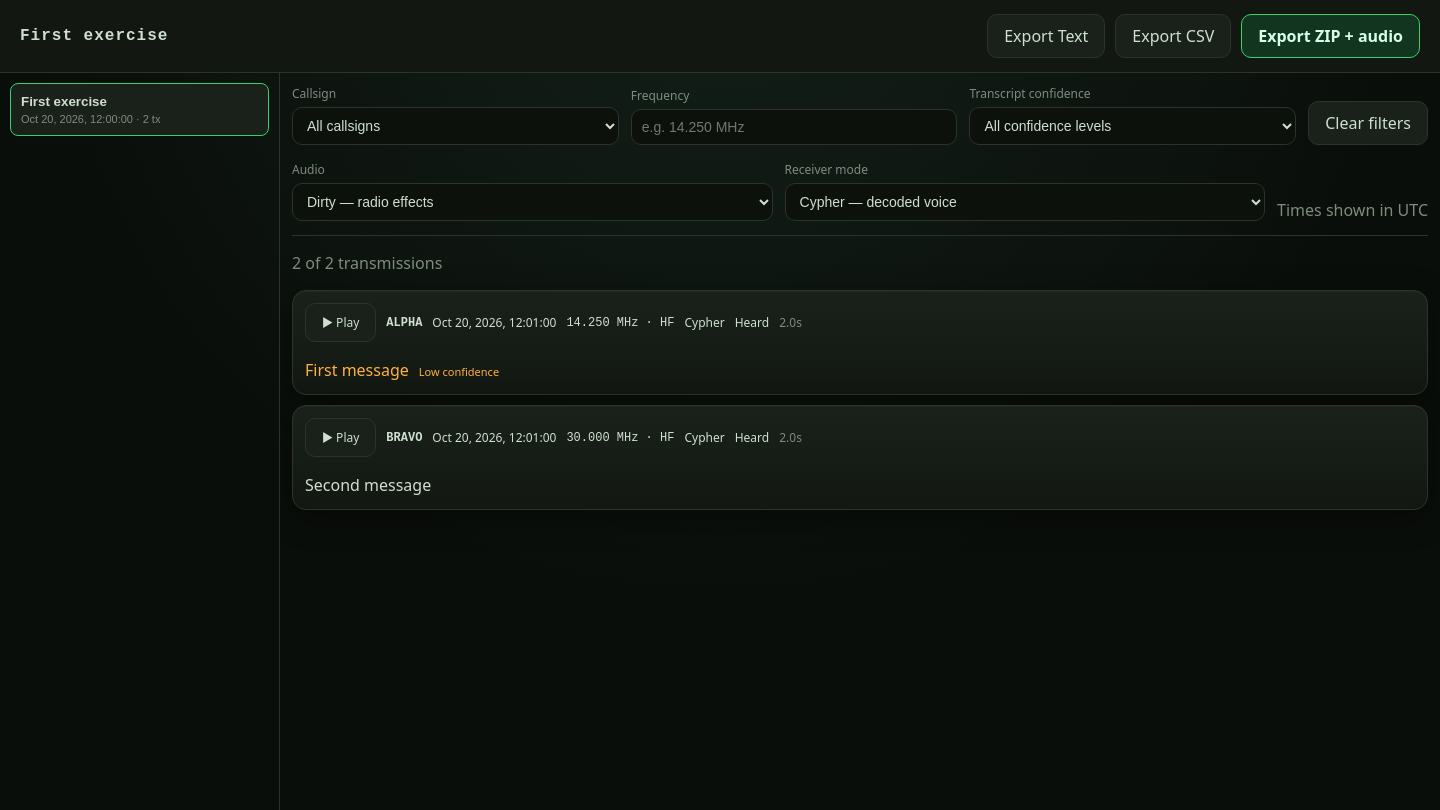
AarReview › combines callsign, frequency and confidence filters, and clears them
The image size is (1440, 810).
Expected: the text "First message" is shown, [305,359,409,381]
Select "ALPHA" in the dropdown named "Filter by callsign": (455, 126) [292,107,619,145]
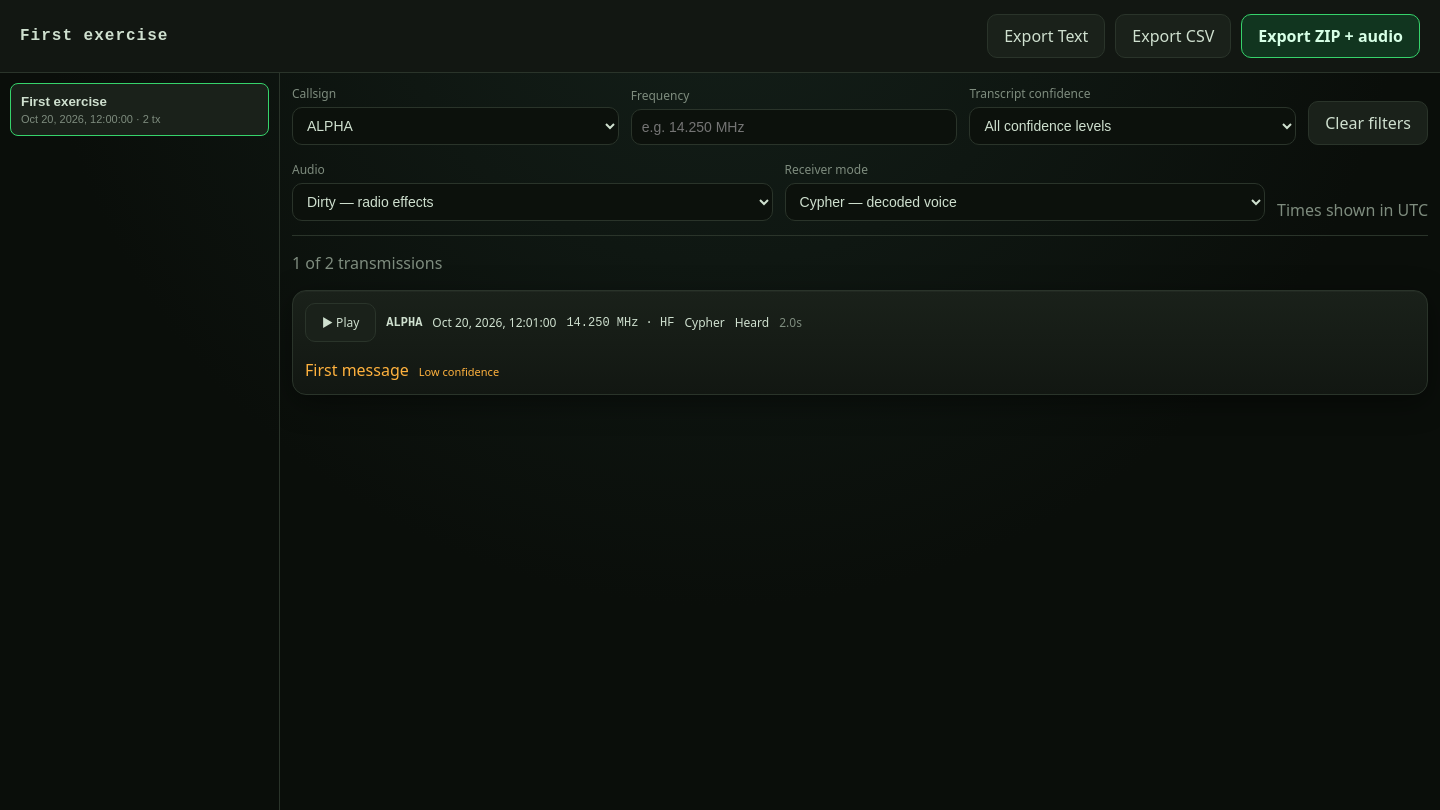
Result: the text "Second message" is gone
In the field named "Filter by frequency": (794, 127) [631,109,957,145], type "30.000"
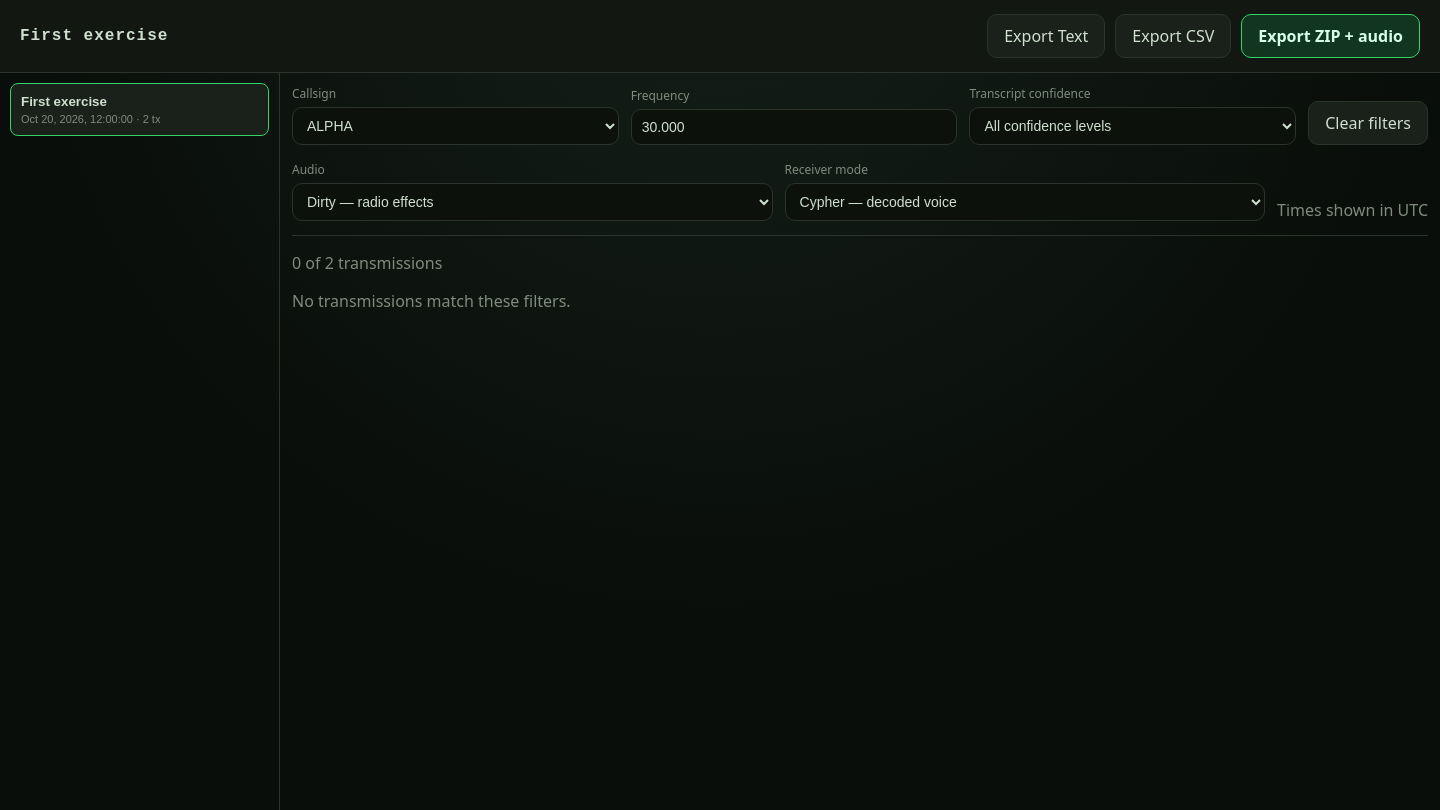
Result: the text "No transmissions match these filters." is shown at [292,290,571,312]
Click the button "Clear filters": (1368, 123) [1308,101,1428,145]
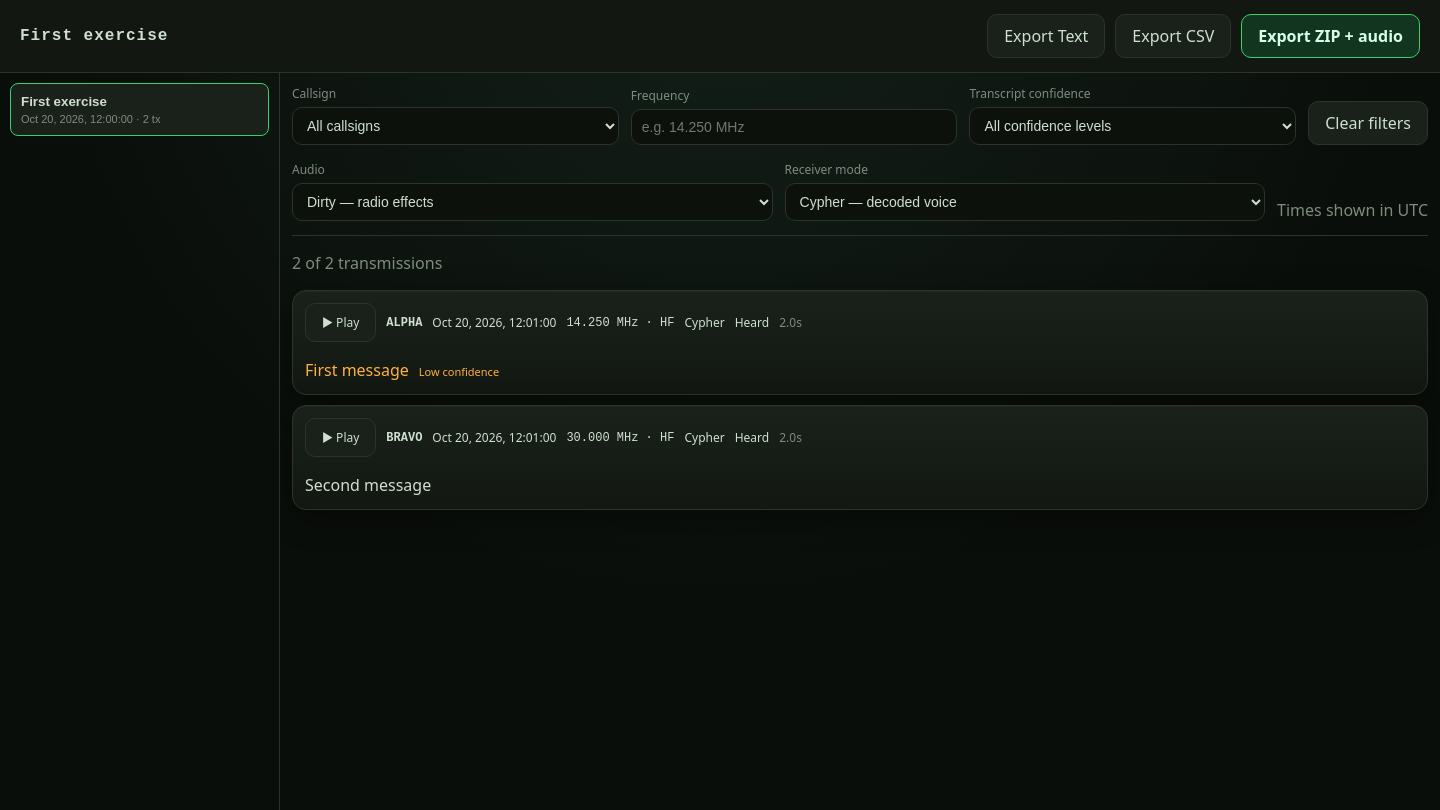
Select "High confidence / reviewed" in the dropdown named "Filter by transcript confidence": (1133, 126) [969,107,1296,145]
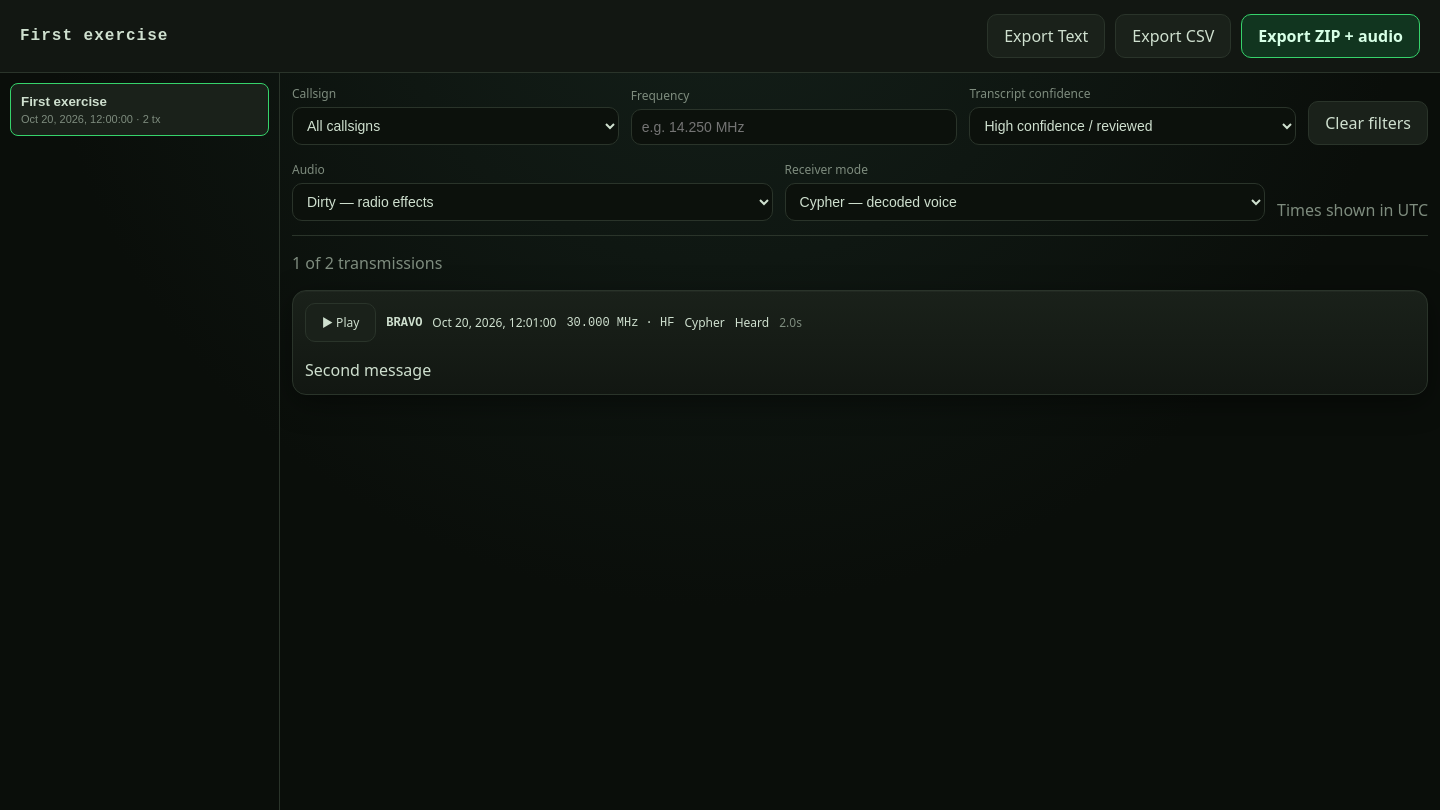
Result: the text "Second message" is shown at [305,359,431,381]
Result: the text "First message" is gone
Click the button "Clear filters": (1368, 123) [1308,101,1428,145]
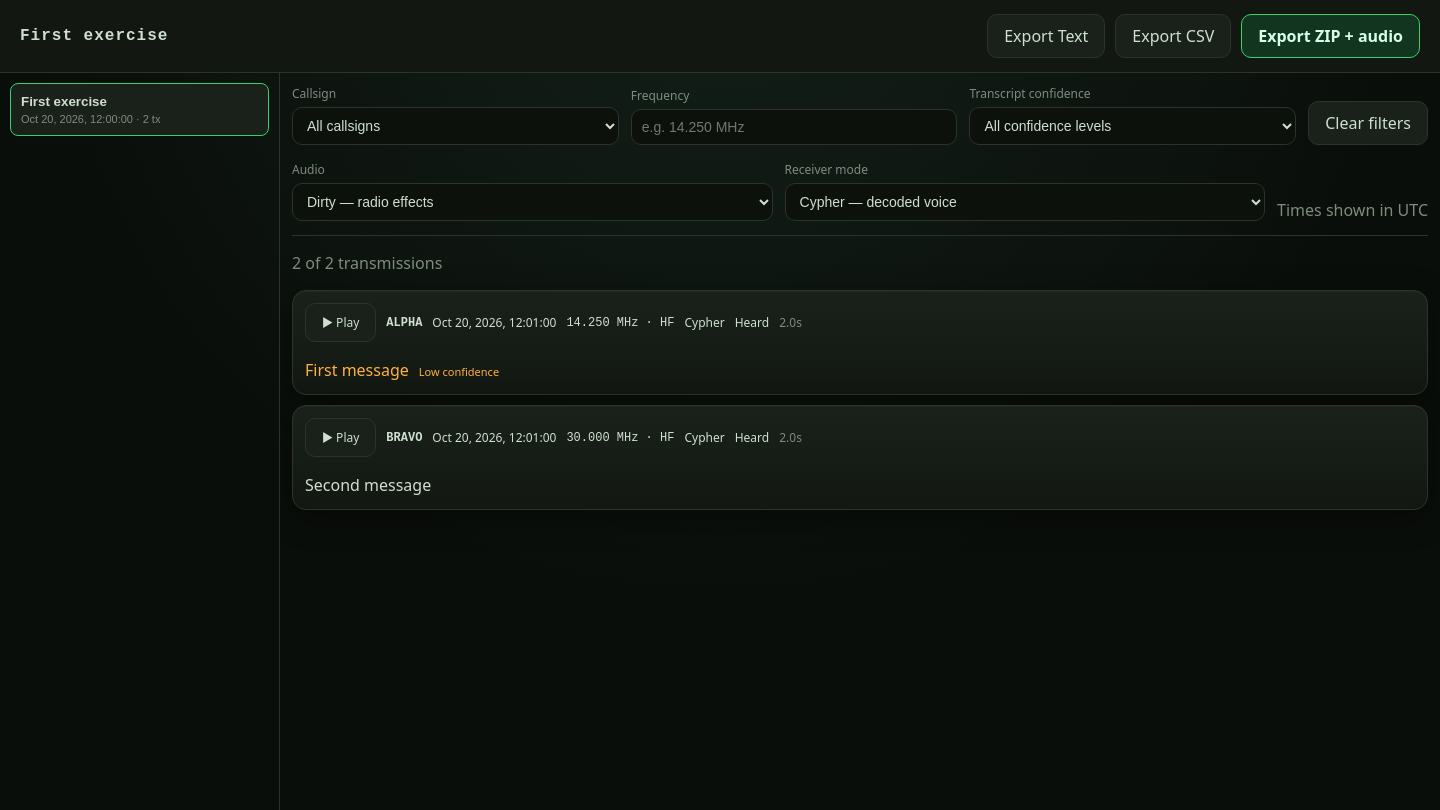
Result: the text "First message" is shown at [305,359,409,381]
